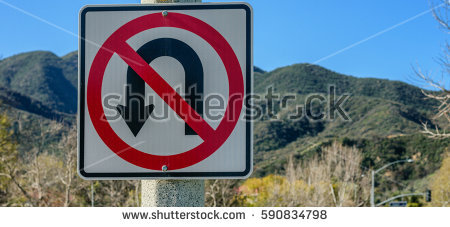No_u_turn: (87, 12, 244, 170)
